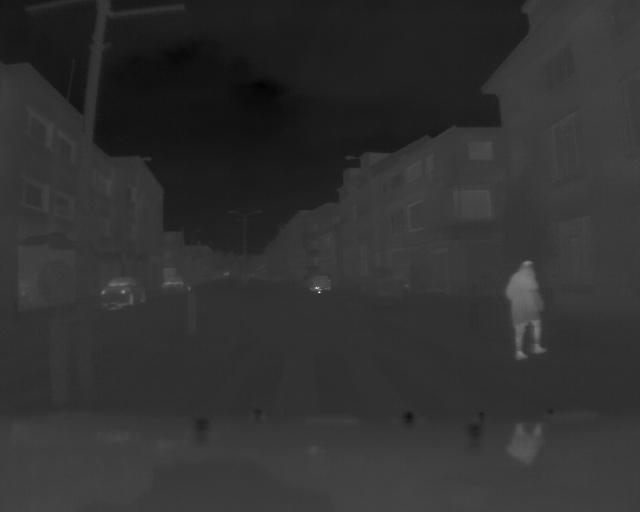car: (101, 273, 148, 312), (307, 276, 333, 295)
person: (505, 255, 548, 358)
